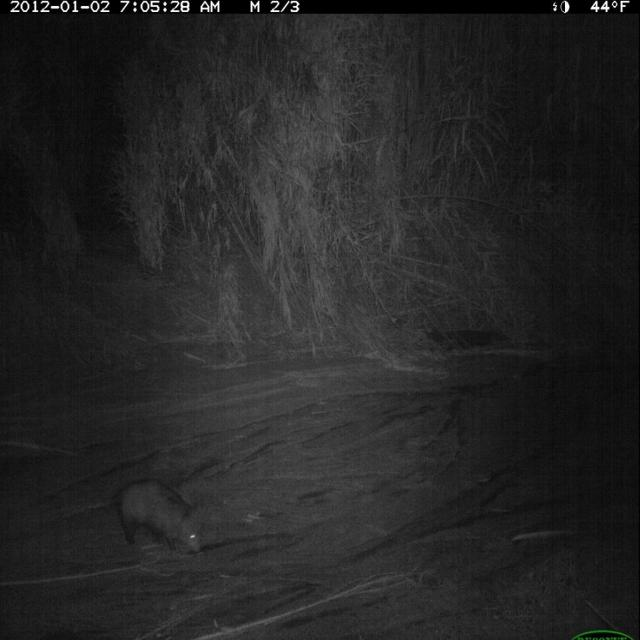opossum: (98, 475, 208, 566)
